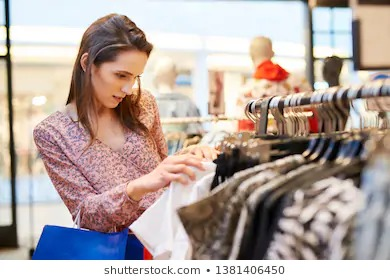C_blouse: (27, 88, 174, 231)
